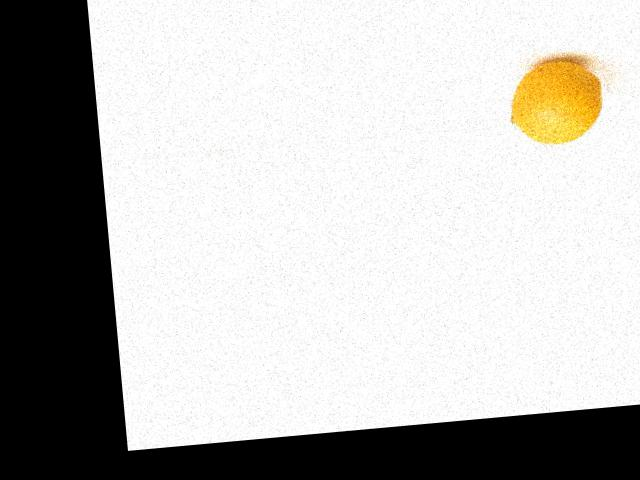lemon: (504, 50, 616, 151)
